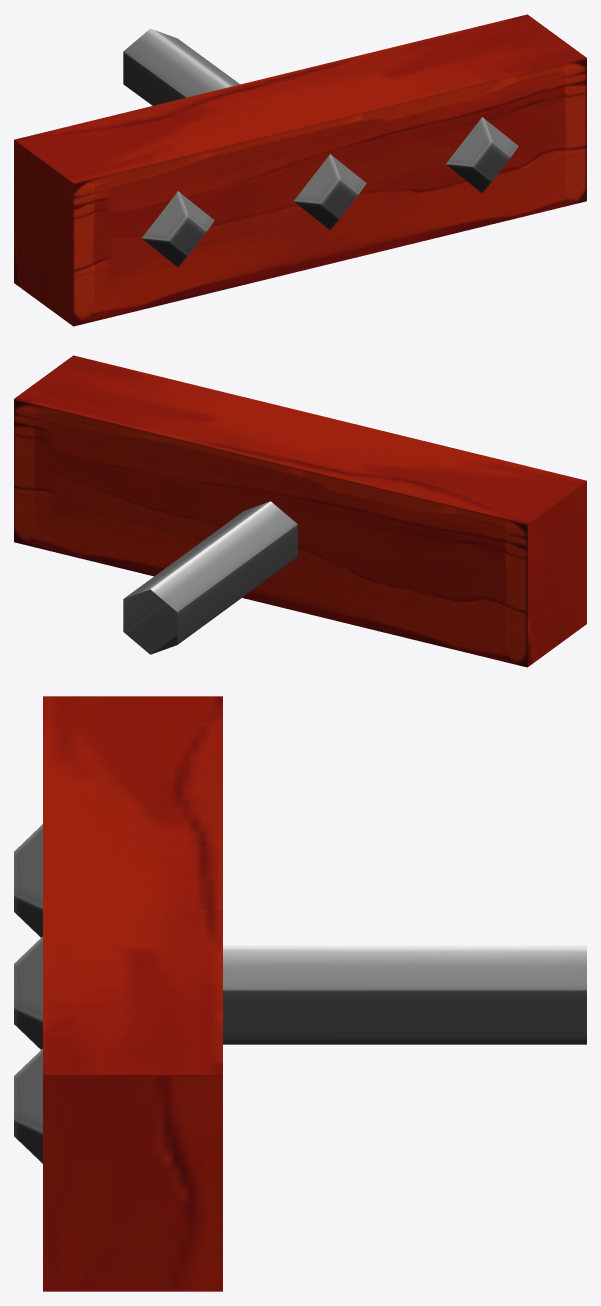
The model's file is wall_red_02.fbx.
3 renders of one model, top to bottom at view 1: azimuth 30°, elevation 25°; view 2: azimuth 150°, elevation 25°; view 3: azimuth 270°, elevation 25°, orthographic. The views are drawn at different scales.
Parts seen in each view (by area): view 1: wall_6, spring_6; view 2: wall_6, spring_6; view 3: wall_6, spring_6.
Boxes of the visible parts, box(x1,y1,x2,y2) form: wall_6: box(14, 14, 586, 326); spring_6: box(123, 28, 239, 105); wall_6: box(14, 355, 586, 667); spring_6: box(123, 501, 297, 654); wall_6: box(14, 696, 222, 1291); spring_6: box(223, 945, 586, 1044).
Bounding box in the file's own units: 150 × 40 × 95.87.
